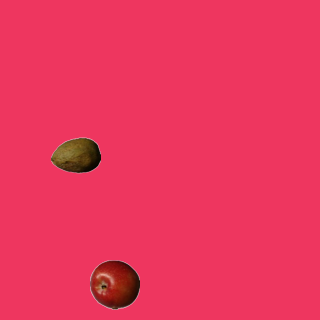Apple Braeburn: (89, 259, 139, 309)
Papaya: (50, 130, 100, 180)
